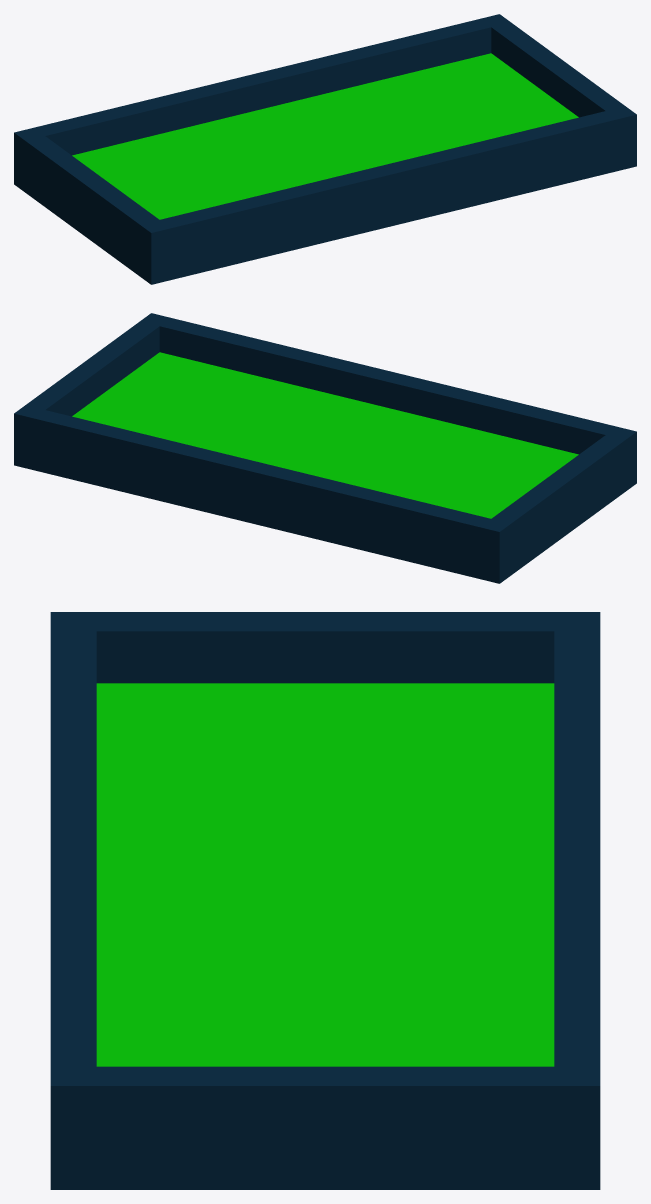
The model's file is board.obj.
The picture shows the model from 3 angles, top to bottom: view 1: azimuth 30°, elevation 25°; view 2: azimuth 150°, elevation 25°; view 3: azimuth 270°, elevation 25°; orthographic projection. The views are drawn at different scales.
Visible parts, largest first — view 1: Cube_Cube.002; view 2: Cube_Cube.002; view 3: Cube_Cube.002.
Part boxes in pixels (x1,y1,x2,y2): Cube_Cube.002: (14,14,636,284); Cube_Cube.002: (14,313,636,583); Cube_Cube.002: (50,612,600,1189).
Size of the model in its own units: 9.8 by 1 by 4.8.
